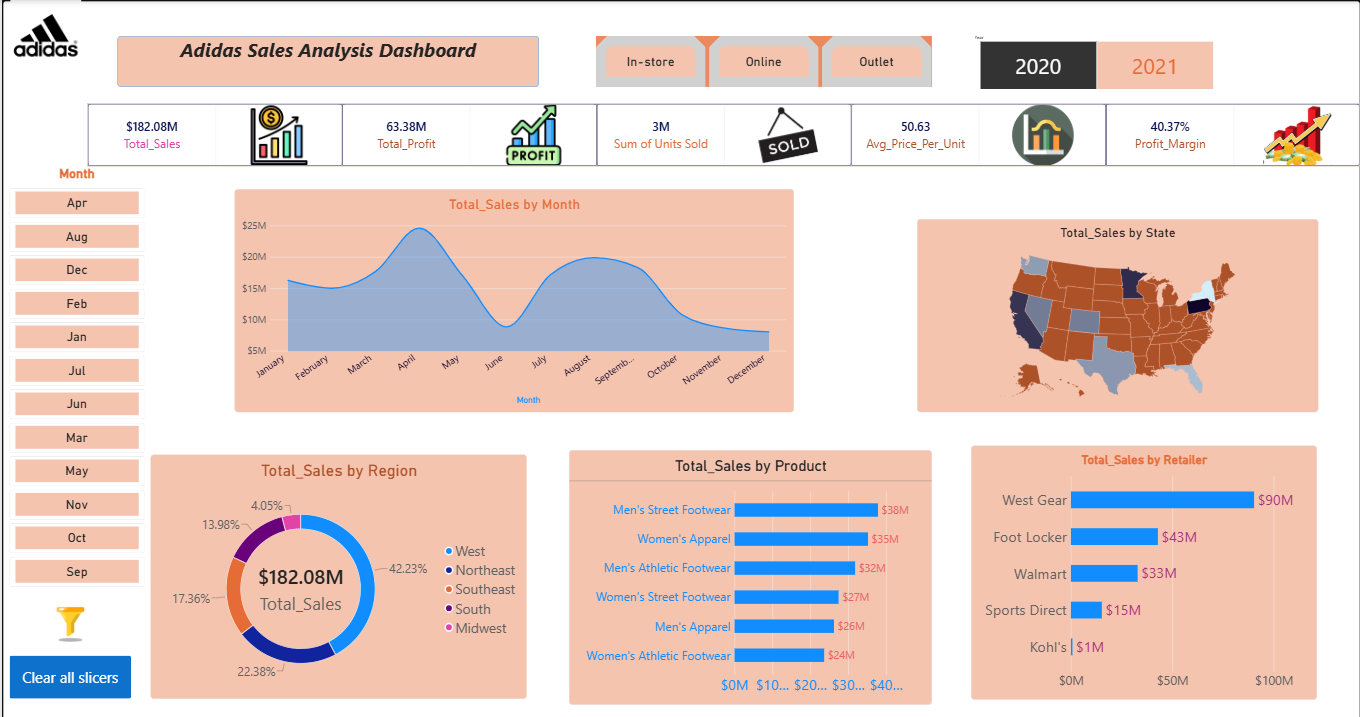

Layout of this report page (visuals, bound fields, positions):
{"tool":"powerbi","page":{"name":"Duplicate of Page 1","canvas":[3046,1688],"ordinal":0},"visuals":[{"type":"cardVisual","fields":{"Data":["Data Sales Adidas.Total_Sales","Data Sales Adidas.Total_Profit","Sum(Data Sales Adidas.Units Sold)","Data Sales Adidas.Avg_Price_Per_Unit","Data Sales Adidas.Profit_Margin"]},"box":[191.4,231.7,2853.8,140.5],"z":0},{"type":"image","box":[0,0,196.1,158.8],"z":1000},{"type":"textbox","box":[258.6,80.6,943.6,114.2],"z":2000},{"type":"areaChart","fields":{"Category":["Data Sales Adidas.Invoice Date.Variation.Date Hierarchy.Month"],"Y":["Data Sales Adidas.Total_Sales"]},"box":[520.5,423.1,1256,533.9],"z":3000},{"type":"shapeMap","fields":{"Category":["Data Sales Adidas.State"],"Value":["Data Sales Adidas.Total_Sales"]},"box":[2048.5,490.3,898.7,432.6],"z":4000},{"type":"donutChart","fields":{"Category":["Data Sales Adidas.Region"],"Y":["Data Sales Adidas.Total_Sales"]},"box":[359.3,1031,842.9,547.4],"z":5000},{"type":"clusteredBarChart","fields":{"Category":["Data Sales Adidas.Product"],"Y":["Data Sales Adidas.Total_Sales"]},"box":[1242.5,1031,806,533.9],"z":6000},{"type":"clusteredBarChart","fields":{"Category":["Data Sales Adidas.Retailer"],"Y":["Data Sales Adidas.Total_Sales"]},"box":[2169.4,997.4,774.7,569.3],"z":7000},{"type":"advancedSlicerVisual","fields":{"Values":["Data Sales Adidas.Sales Method"]},"box":[1242.5,77.2,752.2,114.2],"z":8000},{"type":"advancedSlicerVisual","fields":{"Values":["Data Sales Adidas.Month"]},"box":[16.8,372.8,302.2,943.6],"z":9000},{"type":"image","box":[43.7,1346.6,219.8,90.1],"z":10000},{"type":"actionButton","box":[16.8,1467.5,272.2,97],"z":11000},{"type":"slicer","fields":{"Values":["Data Sales Adidas.Invoice Date.Variation.Date Hierarchy.Year"]},"box":[2115.6,67.2,560.8,124.3],"z":11001}]}

Visuals, with their boxes on the page's 3046x1688 design canvas (x1, y1, x2, y2). These are canvas units, not pixel positions in the 1360x717 screenshot, which may show the page scaled, cropped or inside an application window:
cardVisual - Data Sales Adidas.Total_Sales x Data Sales Adidas.Total_Profit: rect(191, 232, 3045, 372)
image: rect(0, 0, 196, 159)
textbox: rect(259, 81, 1202, 195)
areaChart - Data Sales Adidas.Invoice Date.Variation.Date Hierarchy.Month x Data Sales Adidas.Total_Sales: rect(520, 423, 1776, 957)
shapeMap - Data Sales Adidas.State x Data Sales Adidas.Total_Sales: rect(2048, 490, 2947, 923)
donutChart - Data Sales Adidas.Region x Data Sales Adidas.Total_Sales: rect(359, 1031, 1202, 1578)
clusteredBarChart - Data Sales Adidas.Product x Data Sales Adidas.Total_Sales: rect(1242, 1031, 2048, 1565)
clusteredBarChart - Data Sales Adidas.Retailer x Data Sales Adidas.Total_Sales: rect(2169, 997, 2944, 1567)
advancedSlicerVisual - Data Sales Adidas.Sales Method: rect(1242, 77, 1995, 191)
advancedSlicerVisual - Data Sales Adidas.Month: rect(17, 373, 319, 1316)
image: rect(44, 1347, 264, 1437)
actionButton: rect(17, 1468, 289, 1564)
slicer - Data Sales Adidas.Invoice Date.Variation.Date Hierarchy.Year: rect(2116, 67, 2676, 192)
